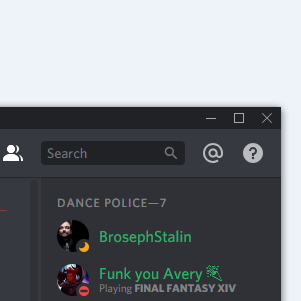close: (255, 107, 279, 128)
